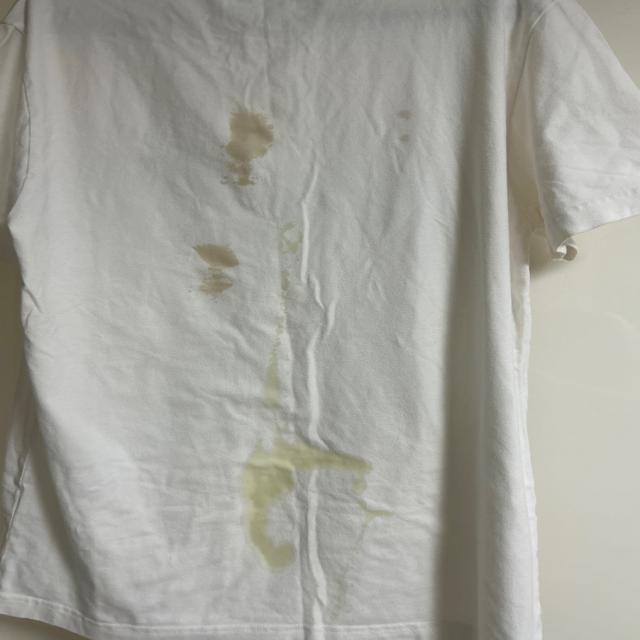stain: (233, 484, 406, 565), (241, 441, 383, 494), (218, 112, 281, 196), (183, 235, 253, 298), (253, 330, 299, 407), (389, 106, 421, 151), (284, 224, 308, 260)
